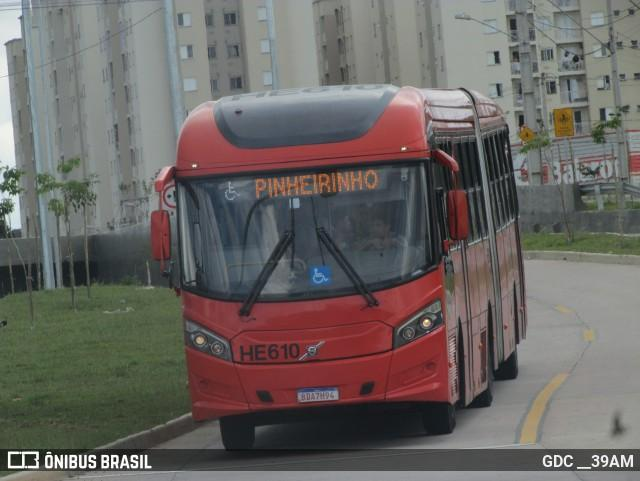PINHEIRINHO: (250, 165, 383, 203)
